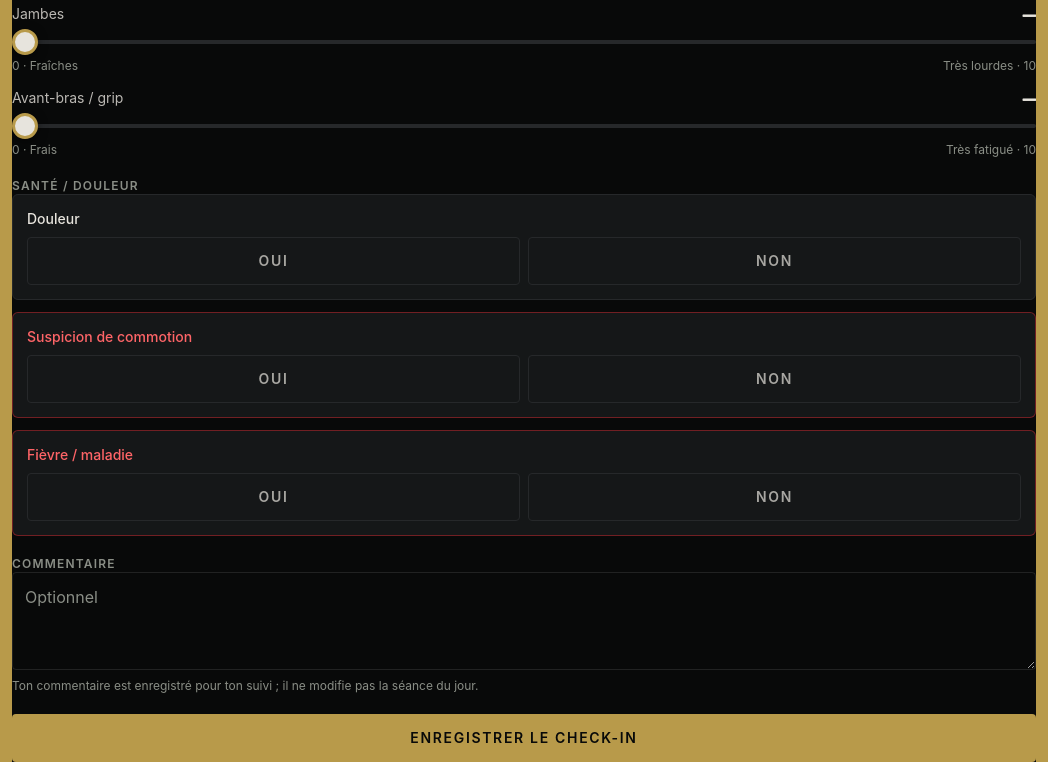
Test: CheckinForm › a validation failure always produces visible error feedback, never a silent no-op
(page scrolled)
Step 1. Click the button "Enregistrer le check-in" → (524, 738), box [12,714,1036,761]
(page scrolled)
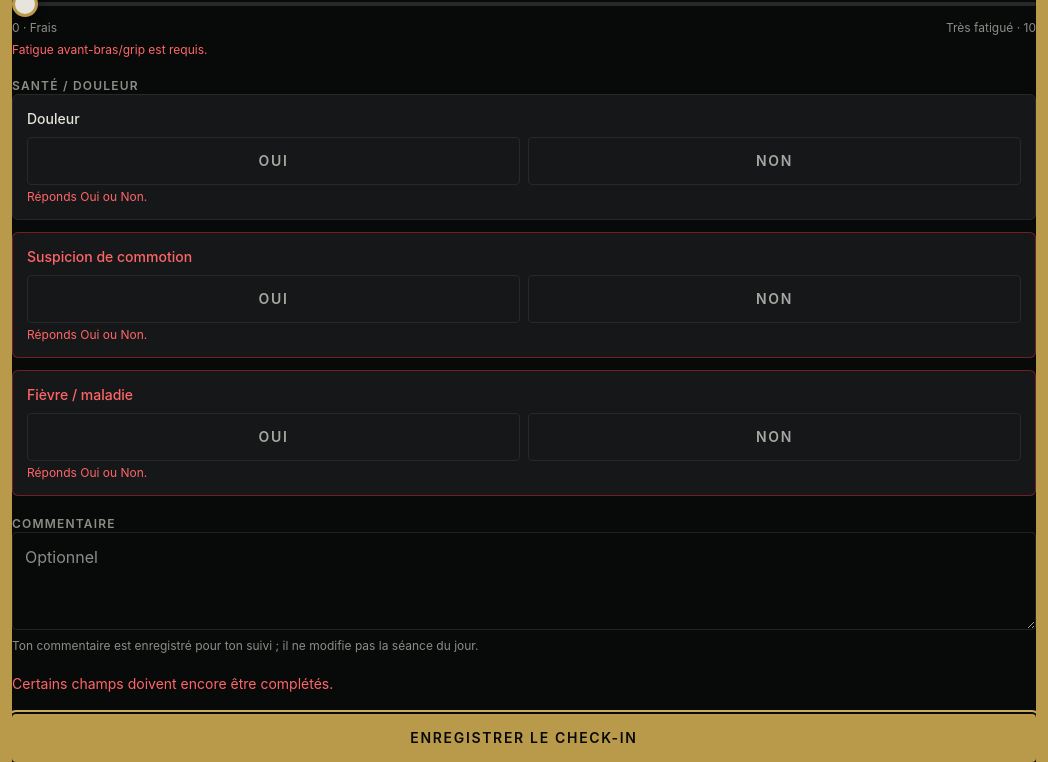
Now the text "Certains champs doivent encore être complétés." is shown, box [12,675,333,692]
